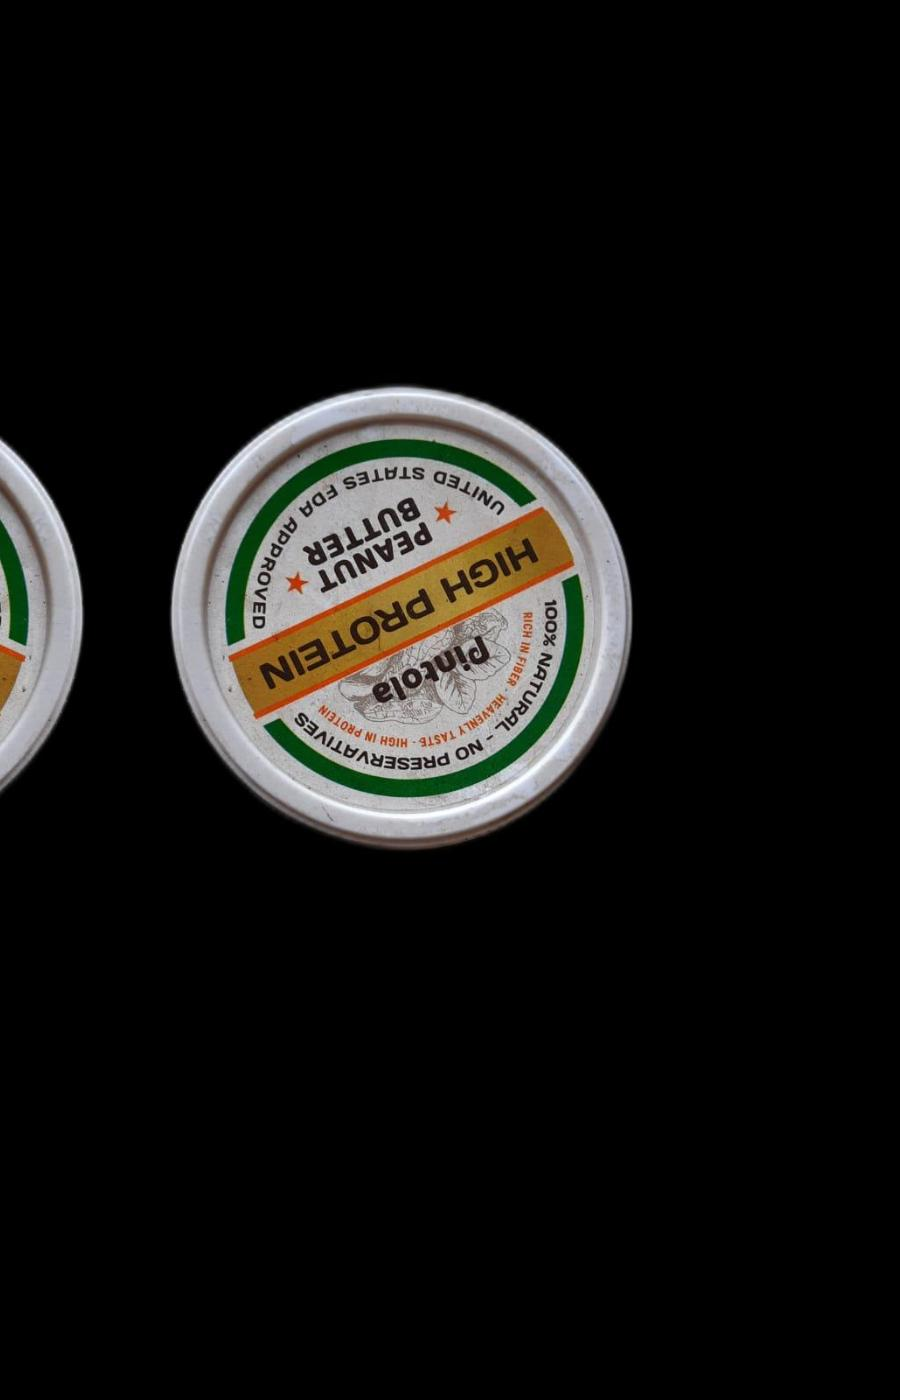Pintola High Protein Peanut Butter-510 gm-: (158, 386, 653, 856)
